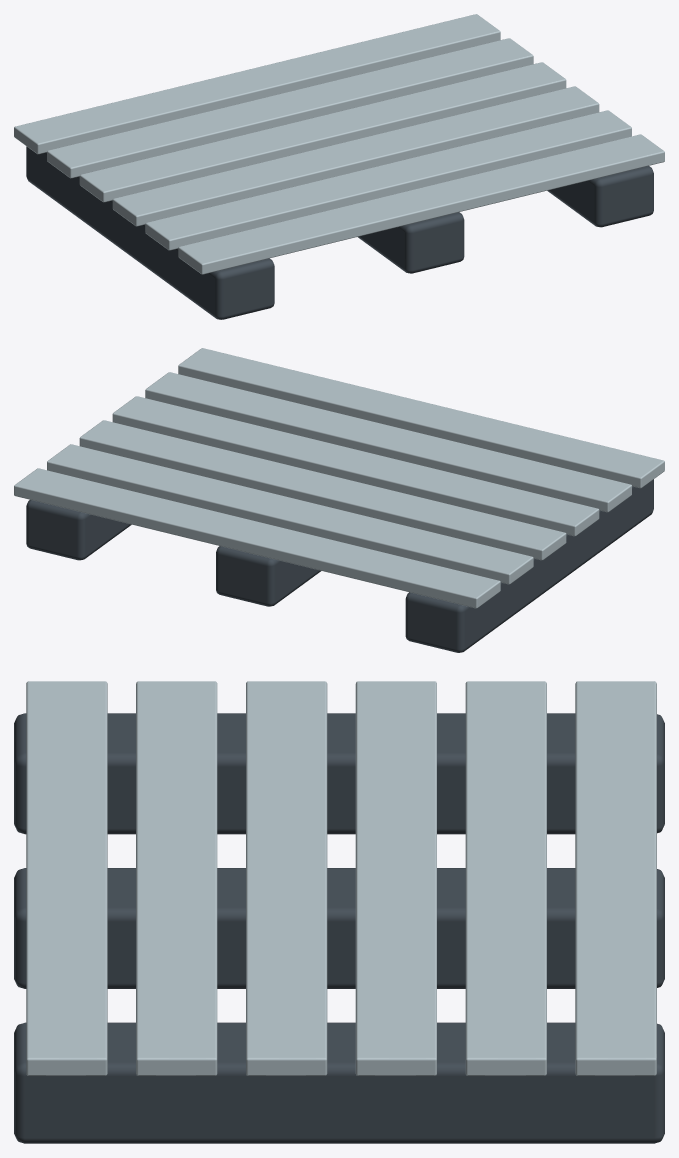
Rendered from data-centre-infiltration-kit-data-centre-infiltration--1c25b774__29264.glb.
3 views of the same model, one above another, from view 1: azimuth 30°, elevation 25°; view 2: azimuth 150°, elevation 25°; view 3: azimuth 270°, elevation 25° (orthographic). The views are drawn at different scales.
Visible parts, largest first — view 1: data-centre-infiltration-kit-loading-pallet; view 2: data-centre-infiltration-kit-loading-pallet; view 3: data-centre-infiltration-kit-loading-pallet.
Boxes of the visible parts, bbox=[...] form: data-centre-infiltration-kit-loading-pallet: bbox=[14, 14, 664, 319]; data-centre-infiltration-kit-loading-pallet: bbox=[14, 348, 664, 652]; data-centre-infiltration-kit-loading-pallet: bbox=[14, 681, 664, 1143].
Size of the model in its own units: 1.1 by 0.135 by 0.8001.
